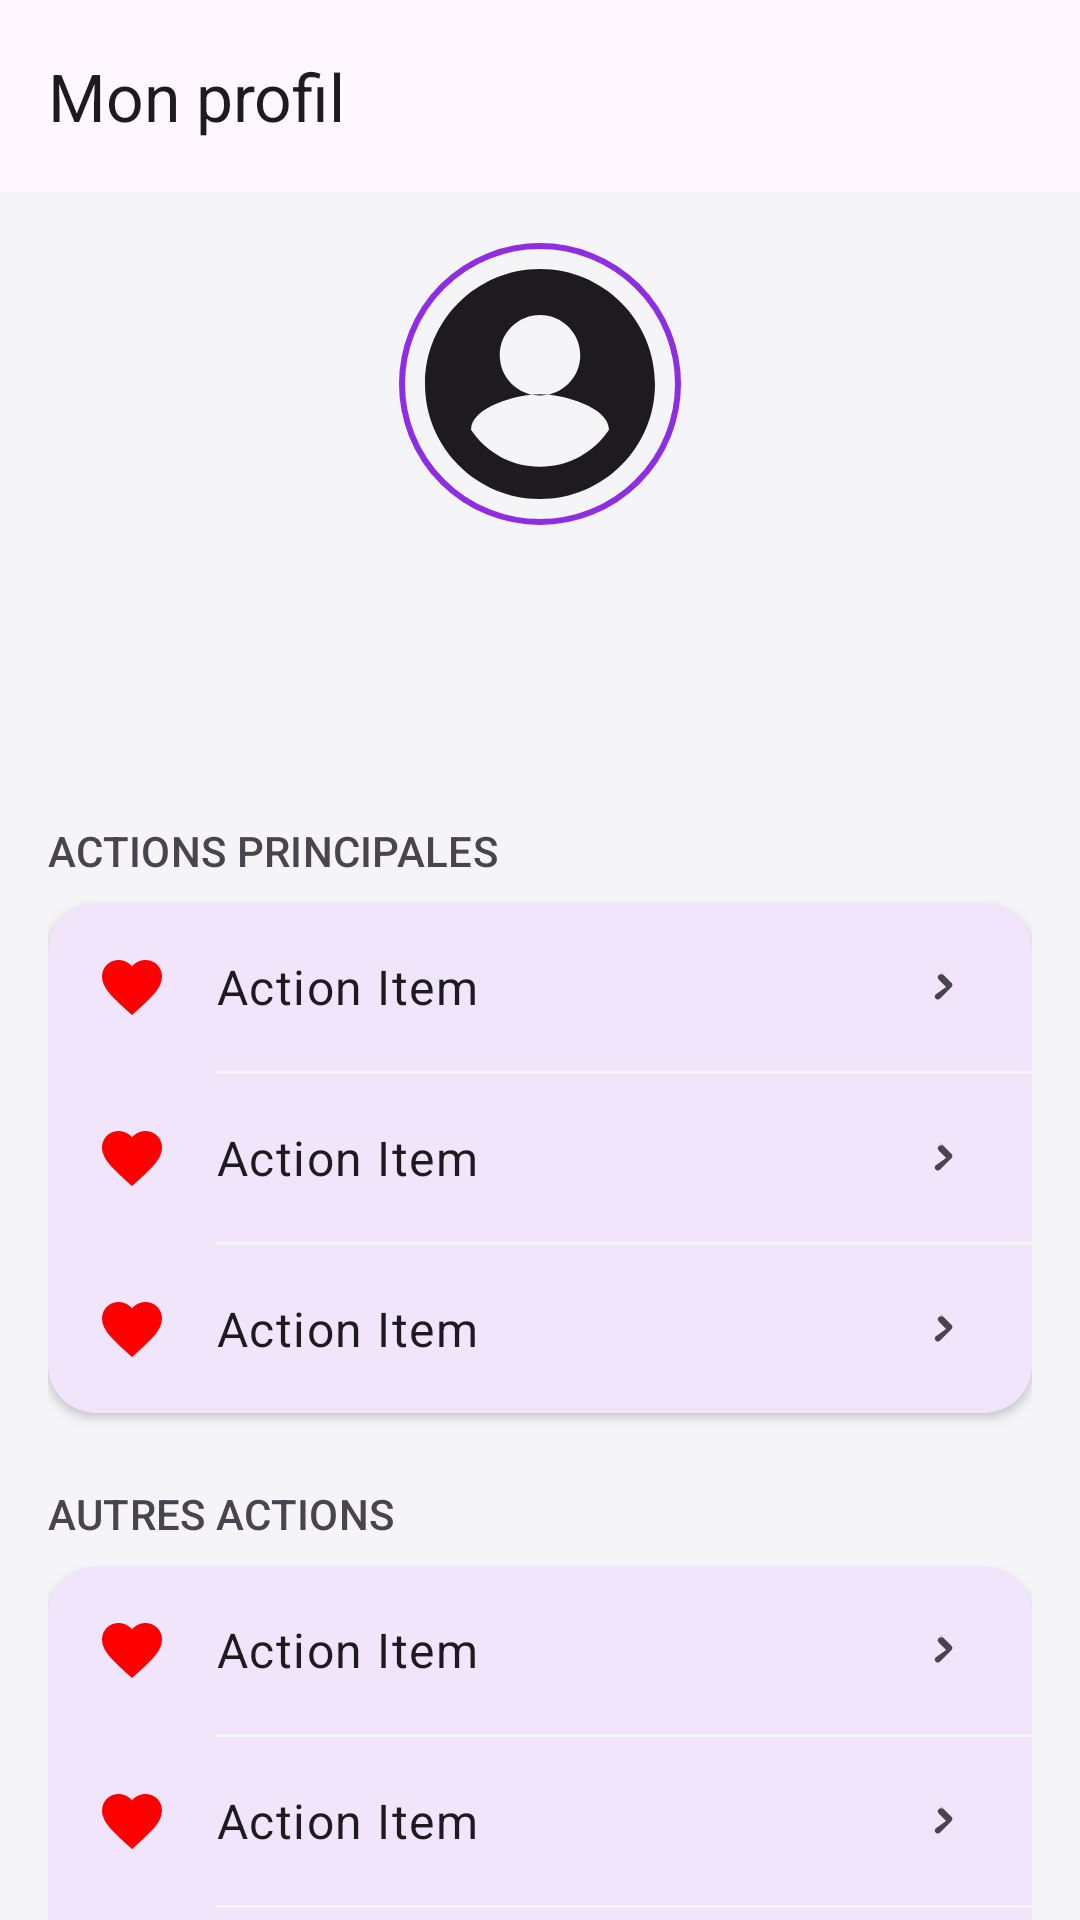

Where icons sit on this 1080×1920 app screen, as (x1, y1, x2, y2):
chevron right: (934, 973, 953, 1000), (934, 1144, 953, 1171), (934, 1315, 953, 1342), (934, 1636, 953, 1663), (934, 1807, 953, 1834)
profile: (399, 243, 681, 525)
